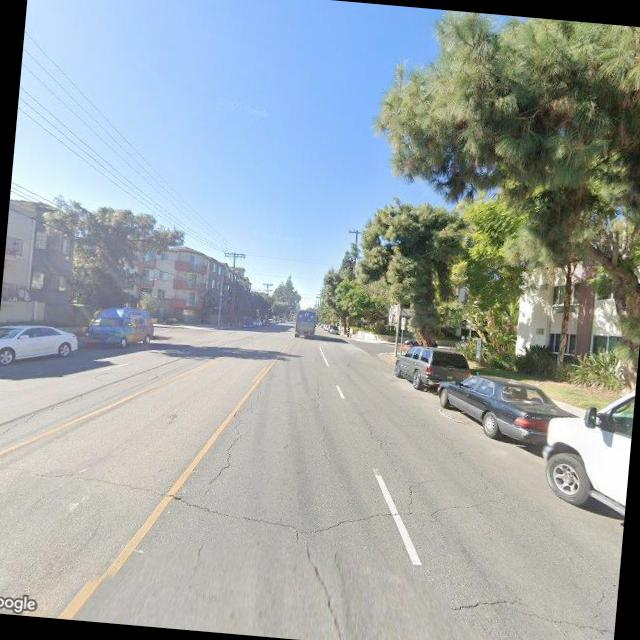crack: (0, 440, 522, 552), (449, 592, 615, 636), (296, 539, 354, 640), (204, 410, 244, 494)
